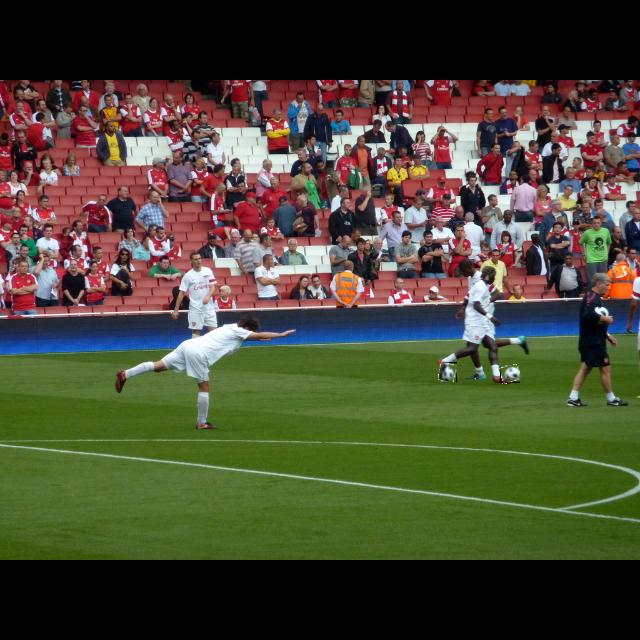Football: (439, 362, 457, 382), (500, 365, 520, 383)
